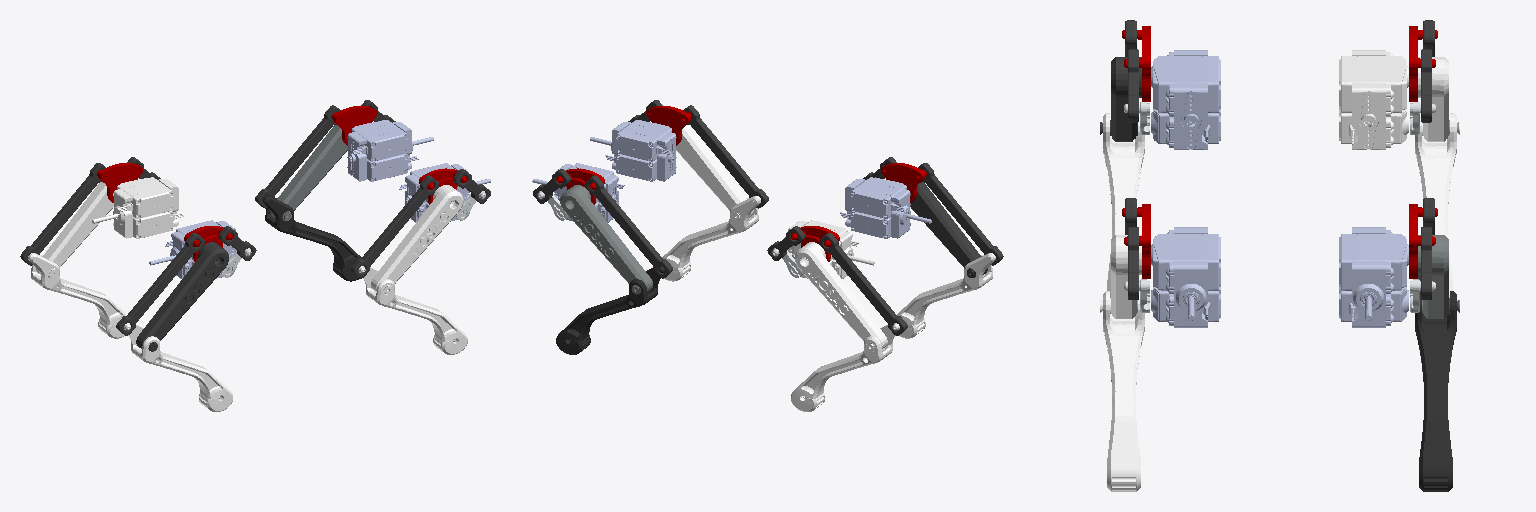
--- Facts derived from the render (not from the file) ---
The picture shows the robot from 3 angles, left to right: view 1: azimuth 30°, elevation 25°; view 2: azimuth 150°, elevation 25°; view 3: azimuth 270°, elevation 25°; orthographic projection.
Model URDF_MOSAC_Real with 37 links and 36 joints (36 continuous), rooted at chasis_base_link, posed every joint at zero.
Visible links, largest first — view 1: BBL_link, BFL_link, BR_servo_femur_link, FR_servo_femur_link, FR_tibia_link, BR_tibia_link, FL_servo_femur_link, BL_tibia_link, FL_tibia_link, BL_servo_femur_link, BR_rotula_grande_tibia_link, FR_rotula_grande_tibia_link (+8 smaller); view 2: BBR_link, BFR_link, BL_servo_femur_link, FL_servo_femur_link, FL_tibia_link, BL_tibia_link, FR_servo_femur_link, FR_tibia_link, BR_tibia_link, BR_servo_femur_link, BL_rotula_grande_tibia_link, FL_rotula_grande_tibia_link (+8 smaller); view 3: BFR_link, BFL_link, BBR_link, BBL_link, FR_tibia_link, FL_tibia_link, BR_tibia_link, BL_tibia_link, BL_servo_femur_link, BR_servo_femur_link, FR_servo_femur_link, FL_servo_femur_link (+8 smaller).
Link boxes in pixels (left/top/right/bottom): BBL_link: left=92, top=177, right=183, bottom=238; BFL_link: left=347, top=120, right=433, bottom=181; BR_servo_femur_link: left=136, top=242, right=228, bottom=351; FR_servo_femur_link: left=371, top=185, right=463, bottom=293; FR_tibia_link: left=358, top=266, right=467, bottom=354; BR_tibia_link: left=124, top=323, right=232, bottom=411; FL_servo_femur_link: left=270, top=125, right=347, bottom=220; BL_tibia_link: left=28, top=253, right=126, bottom=338; FL_tibia_link: left=263, top=196, right=361, bottom=281; BL_servo_femur_link: left=36, top=182, right=113, bottom=277; BR_rotula_grande_tibia_link: left=116, top=233, right=204, bottom=335; FR_rotula_grande_tibia_link: left=351, top=175, right=438, bottom=278; BBR_link: left=840, top=177, right=931, bottom=238; BFR_link: left=590, top=120, right=676, bottom=181; BL_servo_femur_link: left=795, top=242, right=887, bottom=351; FL_servo_femur_link: left=560, top=185, right=652, bottom=293; FL_tibia_link: left=556, top=266, right=665, bottom=354; BL_tibia_link: left=791, top=323, right=899, bottom=411; FR_servo_femur_link: left=676, top=125, right=753, bottom=220; FR_tibia_link: left=662, top=196, right=760, bottom=281; BR_tibia_link: left=897, top=253, right=995, bottom=338; BR_servo_femur_link: left=910, top=182, right=987, bottom=277; BL_rotula_grande_tibia_link: left=819, top=233, right=907, bottom=335; FL_rotula_grande_tibia_link: left=584, top=175, right=672, bottom=278; BFR_link: left=1151, top=227, right=1220, bottom=327; BFL_link: left=1339, top=227, right=1408, bottom=327; BBR_link: left=1151, top=50, right=1220, bottom=149; BBL_link: left=1339, top=50, right=1408, bottom=149; FR_tibia_link: left=1103, top=275, right=1144, bottom=491; FL_tibia_link: left=1415, top=275, right=1456, bottom=491; BR_tibia_link: left=1103, top=98, right=1144, bottom=297; BL_tibia_link: left=1415, top=98, right=1456, bottom=297; BL_servo_femur_link: left=1418, top=57, right=1459, bottom=141; BR_servo_femur_link: left=1100, top=57, right=1141, bottom=141; FR_servo_femur_link: left=1100, top=235, right=1141, bottom=318; FL_servo_femur_link: left=1418, top=235, right=1459, bottom=318.
Size in the robot's own frame: 0.4182 by 0.2141 by 0.181 metres.
Meshes: 37 distinct files referenced, 28 mesh visuals loaded (28 binary STL); not drawn: 1 (reference not matched to a file when rendering), 8 (file found but could not be loaded).

The robot description file, URDF, robot "URDF_MOSAC_Real":
<?xml version="1.0" encoding="utf-8"?>
<!-- This URDF was automatically created by SolidWorks to URDF Exporter! Originally created by Stephen Brawner ([email redacted]) 
     Commit Version: 1.6.0-1-g15f4949  Build Version: 1.6.7594.29634
     For more information, please see http://wiki.ros.org/sw_urdf_exporter -->
<robot
  name="URDF_MOSAC_Real">
  <link
    name="chasis_base_link">
    <inertial>
      <origin
        xyz="0.000290417783026298 0.00089199114591777 -0.00248382841967407"
        rpy="0 0 0" />
      <mass
        value="1.28517738631335" />
      <inertia
        ixx="0.00083611859449757"
        ixy="2.50542972999299E-06"
        ixz="2.47352523120129E-06"
        iyy="0.00168925283943089"
        iyz="-5.86903656615957E-07"
        izz="0.00190795853364502" />
    </inertial>
    <visual>
      <origin
        xyz="0 0 0"
        rpy="0 0 0" />
      <geometry>
        <mesh
          filename="package://URDF_MOSAC_Real/meshes/chasis_base_link.STL" />
      </geometry>
      <material
        name="">
        <color
          rgba="0.298039215686275 0.298039215686275 0.298039215686275 1" />
      </material>
    </visual>
    <collision>
      <origin
        xyz="0 0 0"
        rpy="0 0 0" />
      <geometry>
        <mesh
          filename="package://URDF_MOSAC_Real/meshes/chasis_base_link.STL" />
      </geometry>
    </collision>
  </link>
  <link
    name="BFR_link">
    <inertial>
      <origin
        xyz="0.0054185 -2.2933E-06 -0.030952"
        rpy="0 0 0" />
      <mass
        value="0.14189" />
      <inertia
        ixx="2.2913E-05"
        ixy="-2.9145E-09"
        ixz="-1.1575E-09"
        iyy="2.018E-05"
        iyz="8.907E-10"
        izz="8.4922E-06" />
    </inertial>
    <visual>
      <origin
        xyz="0 0 0"
        rpy="0 0 0" />
      <geometry>
        <mesh
          filename="package://URDF_MOSAC_Real/meshes/BFR_link.STL" />
      </geometry>
      <material
        name="">
        <color
          rgba="0.79216 0.81961 0.93333 1" />
      </material>
    </visual>
    <collision>
      <origin
        xyz="0 0 0"
        rpy="0 0 0" />
      <geometry>
        <mesh
          filename="package://URDF_MOSAC_Real/meshes/BFR_link.STL" />
      </geometry>
    </collision>
  </link>
  <joint
    name="BFR_joint"
    type="continuous">
    <origin
      xyz="0.0950000000000001 -0.0527500000000021 0.0031999999999997"
      rpy="1.5707963267949 0 -1.5707963267949" />
    <parent
      link="chasis_base_link" />
    <child
      link="BFR_link" />
    <axis
      xyz="0 0 -1" />
  </joint>
  <link
    name="FR_servo_femur_link">
    <inertial>
      <origin
        xyz="-0.035696 -0.032879 0.0033975"
        rpy="0 0 0" />
      <mass
        value="0.024784" />
      <inertia
        ixx="9.0612E-06"
        ixy="-8.7198E-06"
        ixz="2.0748E-07"
        iyy="1.0494E-05"
        iyz="1.9069E-07"
        izz="1.8687E-05" />
    </inertial>
    <visual>
      <origin
        xyz="0 0 0"
        rpy="0 0 0" />
      <geometry>
        <mesh
          filename="package://URDF_MOSAC_Real/meshes/FR_servo_femur_link.STL" />
      </geometry>
      <material
        name="">
        <color
          rgba="1 1 1 1" />
      </material>
    </visual>
    <collision>
      <origin
        xyz="0 0 0"
        rpy="0 0 0" />
      <geometry>
        <mesh
          filename="package://URDF_MOSAC_Real/meshes/FR_servo_femur_link.STL" />
      </geometry>
    </collision>
  </link>
  <joint
    name="FR_servo_femur_joint"
    type="continuous">
    <origin
      xyz="0.0351250000000001 0.0102651899999998 -0.02005"
      rpy="0 1.5707963267949 0" />
    <parent
      link="BFR_link" />
    <child
      link="FR_servo_femur_link" />
    <axis
      xyz="0 0 1" />
  </joint>
  <link
    name="FR_tibia_link">
    <inertial>
      <origin
        xyz="0.0405520541126842 -0.0407007292848976 -0.00052886451555538"
        rpy="0 0 0" />
      <mass
        value="0.025039074288833" />
      <inertia
        ixx="1.13634074516021E-05"
        ixy="1.31970172291793E-05"
        ixz="-2.02666470710059E-07"
        iyy="1.80542873440298E-05"
        iyz="2.00304487560453E-07"
        izz="2.86227750231342E-05" />
    </inertial>
    <visual>
      <origin
        xyz="0 0 0"
        rpy="0 0 0" />
      <geometry>
        <mesh
          filename="package://URDF_MOSAC_Real/meshes/FR_tibia_link.STL" />
      </geometry>
      <material
        name="">
        <color
          rgba="1 1 1 1" />
      </material>
    </visual>
    <collision>
      <origin
        xyz="0 0 0"
        rpy="0 0 0" />
      <geometry>
        <mesh
          filename="package://URDF_MOSAC_Real/meshes/FR_tibia_link.STL" />
      </geometry>
    </collision>
  </link>
  <joint
    name="FR_tibia_joint"
    type="continuous">
    <origin
      xyz="-0.0735503585991123 -0.0677520829933811 0.00487499999999921"
      rpy="0 0 0" />
    <parent
      link="FR_servo_femur_link" />
    <child
      link="FR_tibia_link" />
    <axis
      xyz="0 0 -1" />
  </joint>
  <link
    name="FR_rotula_grande_tibia_link">
    <inertial>
      <origin
        xyz="0.0367751792995561 0.0338760414966904 3.33066907387547E-16"
        rpy="0 0 0" />
      <mass
        value="0.00640000115681685" />
      <inertia
        ixx="3.34702745902892E-06"
        ixy="-3.5244652556433E-06"
        ixz="-4.03251811656027E-20"
        iyy="3.9265019304504E-06"
        iyz="-3.73079770125206E-20"
        izz="7.22244070550723E-06" />
    </inertial>
    <visual>
      <origin
        xyz="0 0 0"
        rpy="0 0 0" />
      <geometry>
        <mesh
          filename="package://URDF_MOSAC_Real/meshes/FR_rotula_grande_tibia_link.STL" />
      </geometry>
      <material
        name="">
        <color
          rgba="0.298039215686275 0.298039215686275 0.298039215686275 1" />
      </material>
    </visual>
    <collision>
      <origin
        xyz="0 0 0"
        rpy="0 0 0" />
      <geometry>
        <mesh
          filename="package://URDF_MOSAC_Real/meshes/FR_rotula_grande_tibia_link.STL" />
      </geometry>
    </collision>
  </link>
  <joint
    name="FR_rotula_grande_tibia_joint"
    type="continuous">
    <origin
      xyz="-0.0190918830920367 0.0190918830920367 -0.00424999999999991"
      rpy="0 0 0" />
    <parent
      link="FR_tibia_link" />
    <child
      link="FR_rotula_grande_tibia_link" />
    <axis
      xyz="0 0 -1" />
  </joint>
  <link
    name="FR_rotula_grande_shoulder_link">
    <inertial>
      <origin
        xyz="-0.10058 -0.038121 -0.089037"
        rpy="0 0 0" />
      <mass
        value="2.1356" />
      <inertia
        ixx="0.0085818"
        ixy="-0.00041734"
        ixz="7.1429E-07"
        iyy="0.029934"
        iyz="5.5194E-06"
        izz="0.025652" />
    </inertial>
    <visual>
      <origin
        xyz="0 0 0"
        rpy="0 0 0" />
      <geometry>
        <mesh
          filename="package://URDF_MOSAC_Real/meshes/FR_rotula_grande_shoulder_link.STL" />
      </geometry>
      <material
        name="">
        <color
          rgba="1 1 1 1" />
      </material>
    </visual>
    <collision>
      <origin
        xyz="0 0 0"
        rpy="0 0 0" />
      <geometry>
        <mesh
          filename="package://URDF_MOSAC_Real/meshes/FR_rotula_grande_shoulder_link.STL" />
      </geometry>
    </collision>
  </link>
  <joint
    name="FR_rotula_grande_shoulder_joint"
    type="continuous">
    <origin
      xyz="0.07355 0.067752 0"
      rpy="0 0 0" />
    <parent
      link="FR_rotula_grande_tibia_link" />
    <child
      link="FR_rotula_grande_shoulder_link" />
    <axis
      xyz="0 0 1" />
  </joint>
  <link
    name="FR_servo_tibia_link">
    <inertial>
      <origin
        xyz="0.00849117843679939 0.00877671062953272 0.00540992687440882"
        rpy="0 0 0" />
      <mass
        value="0.00485075807463996" />
      <inertia
        ixx="2.41533578534258E-07"
        ixy="-1.63730545099833E-07"
        ixz="-4.59064141261607E-09"
        iyy="2.24720173099584E-07"
        iyz="-4.71346938960582E-09"
        izz="4.15966063305771E-07" />
    </inertial>
    <visual>
      <origin
        xyz="0 0 0"
        rpy="0 0 0" />
      <geometry>
        <mesh
          filename="package://URDF_MOSAC_Real/meshes/FR_servo_tibia_link.STL" />
      </geometry>
      <material
        name="">
        <color
          rgba="0.898039215686275 0.917647058823529 0.929411764705882 1" />
      </material>
    </visual>
    <collision>
      <origin
        xyz="0 0 0"
        rpy="0 0 0" />
      <geometry>
        <mesh
          filename="package://URDF_MOSAC_Real/meshes/FR_servo_tibia_link.STL" />
      </geometry>
    </collision>
  </link>
  <joint
    name="FR_servo_tibia_joint"
    type="continuous">
    <origin
      xyz="0.0237499999999999 -0.0102651900000003 -0.0400500000000001"
      rpy="0 1.5707963267949 0" />
    <parent
      link="BFR_link" />
    <child
      link="FR_servo_tibia_link" />
    <axis
      xyz="0 0 -1" />
  </joint>
  <link
    name="FR_rotula_chica_servo_link">
    <inertial>
      <origin
        xyz="-0.00986392737646444 0.0101312653065557 0"
        rpy="0 0 0" />
      <mass
        value="0.0030699989722557" />
      <inertia
        ixx="2.88497209092339E-07"
        ixy="2.16972305713532E-07"
        ixz="5.80090486410735E-22"
        iyy="2.76891359862068E-07"
        iyz="-1.0733076161098E-21"
        izz="5.40970921862158E-07" />
    </inertial>
    <visual>
      <origin
        xyz="0 0 0"
        rpy="0 0 0" />
      <geometry>
        <mesh
          filename="package://URDF_MOSAC_Real/meshes/FR_rotula_chica_servo_link.STL" />
      </geometry>
      <material
        name="">
        <color
          rgba="0.298039215686275 0.298039215686275 0.298039215686275 1" />
      </material>
    </visual>
    <collision>
      <origin
        xyz="0 0 0"
        rpy="0 0 0" />
      <geometry>
        <mesh
          filename="package://URDF_MOSAC_Real/meshes/FR_rotula_chica_servo_link.STL" />
      </geometry>
    </collision>
  </link>
  <joint
    name="FR_rotula_chica_servo_joint"
    type="continuous">
    <origin
      xyz="0.0166984175014063 0.0172384121353651 0.0106000000000003"
      rpy="0 0 0" />
    <parent
      link="FR_servo_tibia_link" />
    <child
      link="FR_rotula_chica_servo_link" />
    <axis
      xyz="0 0 1" />
  </joint>
  <link
    name="FR_rotula_chica_shoulder_link">
    <inertial>
      <origin
        xyz="-0.136645055588079 -0.0359996039427988 -0.0876367783213924"
        rpy="0 0 0" />
      <mass
        value="2.1356447427504" />
      <inertia
        ixx="0.00858180106982782"
        ixy="-0.000417340448900779"
        ixz="7.14287658441894E-07"
        iyy="0.0299344558473485"
        iyz="5.51944049327586E-06"
        izz="0.0256522236187835" />
    </inertial>
    <visual>
      <origin
        xyz="0 0 0"
        rpy="0 0 0" />
      <geometry>
        <mesh
          filename="package://URDF_MOSAC_Real/meshes/FR_rotula_chica_shoulder_link.STL" />
      </geometry>
      <material
        name="">
        <color
          rgba="1 1 1 1" />
      </material>
    </visual>
    <collision>
      <origin
        xyz="0 0 0"
        rpy="0 0 0" />
      <geometry>
        <mesh
          filename="package://URDF_MOSAC_Real/meshes/FR_rotula_chica_shoulder_link.STL" />
      </geometry>
    </collision>
  </link>
  <joint
    name="FR_rotula_chica_shoulder_joint"
    type="continuous">
    <origin
      xyz="-0.0197278547529299 0.020262530613112 0"
      rpy="0 0 0" />
    <parent
      link="FR_rotula_chica_servo_link" />
    <child
      link="FR_rotula_chica_shoulder_link" />
    <axis
      xyz="0 0 1" />
  </joint>
  <link
    name="FR_shoulder_link">
    <inertial>
      <origin
        xyz="-0.00105643969596636 0.0125068904118659 -0.00604423410697004"
        rpy="0 0 0" />
      <mass
        value="0.0065854219775301" />
      <inertia
        ixx="5.78050517171653E-07"
        ixy="5.76756091228184E-08"
        ixz="1.84636616987274E-09"
        iyy="5.88796571118712E-07"
        iyz="-9.29194333326297E-09"
        izz="1.08229127546329E-06" />
    </inertial>
    <visual>
      <origin
        xyz="0 0 0"
        rpy="0 0 0" />
      <geometry>
        <mesh
          filename="package://URDF_MOSAC_Real/meshes/FR_shoulder_link.STL" />
      </geometry>
      <material
        name="">
        <color
          rgba="0.752941176470588 0 0 1" />
      </material>
    </visual>
    <collision>
      <origin
        xyz="0 0 0"
        rpy="0 0 0" />
      <geometry>
        <mesh
          filename="package://URDF_MOSAC_Real/meshes/FR_shoulder_link.STL" />
      </geometry>
    </collision>
  </link>
  <joint
    name="FR_shoulder_joint"
    type="continuous">
    <origin
      xyz="0.0351250000000001 0.0102651899999998 -0.02005"
      rpy="0 1.5707963267949 0" />
    <parent
      link="BFR_link" />
    <child
      link="FR_shoulder_link" />
    <axis
      xyz="0 0 1" />
  </joint>
  <link
    name="BBR_link">
    <inertial>
      <origin
        xyz="0.00541850075598596 2.29326240222538E-06 0.0309518443700525"
        rpy="0 0 0" />
      <mass
        value="0.141887811628561" />
      <inertia
        ixx="2.29127825525639E-05"
        ixy="2.91452405646396E-09"
        ixz="1.15750416430942E-09"
        iyy="2.01803636492224E-05"
        iyz="8.90702178377633E-10"
        izz="8.49222645493378E-06" />
    </inertial>
    <visual>
      <origin
        xyz="0 0 0"
        rpy="0 0 0" />
      <geometry>
        <mesh
          filename="package://URDF_MOSAC_Real/meshes/BBR_link.STL" />
      </geometry>
      <material
        name="">
        <color
          rgba="0.792156862745098 0.819607843137255 0.933333333333333 1" />
      </material>
    </visual>
    <collision>
      <origin
        xyz="0 0 0"
        rpy="0 0 0" />
      <geometry>
        <mesh
          filename="package://URDF_MOSAC_Real/meshes/BBR_link.STL" />
      </geometry>
    </collision>
  </link>
  <joint
    name="BBR_joint"
    type="continuous">
    <origin
      xyz="-0.095 -0.05275 0.0032"
      rpy="1.5708 0 -1.5708" />
    <parent
      link="chasis_base_link" />
    <child
      link="BBR_link" />
    <axis
      xyz="0 0 -1" />
  </joint>
  <link
    name="BR_servo_femur_link">
    <inertial>
      <origin
        xyz="-0.0356958803544582 -0.0328794701030622 0.00339753630603652"
        rpy="0 0 0" />
      <mass
        value="0.0247837122843707" />
      <inertia
        ixx="9.06120508828957E-06"
        ixy="-8.71982816615834E-06"
        ixz="2.07483926484094E-07"
        iyy="1.0494255288194E-05"
        iyz="1.90691276655185E-07"
        izz="1.86867780400382E-05" />
    </inertial>
    <visual>
      <origin
        xyz="0 0 0"
        rpy="0 0 0" />
      <geometry>
        <mesh
          filename="package://URDF_MOSAC_Real/meshes/BR_servo_femur_link.STL" />
      </geometry>
      <material
        name="">
        <color
          rgba="0.298039215686275 0.298039215686275 0.298039215686275 1" />
      </material>
    </visual>
    <collision>
      <origin
        xyz="0 0 0"
        rpy="0 0 0" />
      <geometry>
        <mesh
          filename="package://URDF_MOSAC_Real/meshes/BR_servo_femur_link.STL" />
      </geometry>
    </collision>
  </link>
  <joint
    name="BR_servo_femur_joint"
    type="continuous">
    <origin
      xyz="0.0351250000000008 0.0102651899999974 0.040050000000004"
      rpy="0 1.5707963267949 0" />
    <parent
      link="BBR_link" />
    <child
      link="BR_servo_femur_link" />
    <axis
      xyz="0 0 1" />
  </joint>
  <link
    name="BR_tibia_link">
    <inertial>
      <origin
        xyz="0.0405520541126877 -0.0407007292848937 -0.000528864515556449"
        rpy="0 0 0" />
      <mass
        value="0.0250390742888331" />
      <inertia
        ixx="1.13634074516027E-05"
        ixy="1.31970172291793E-05"
        ixz="-2.02666470710004E-07"
        iyy="1.80542873440304E-05"
        iyz="2.00304487560462E-07"
        izz="2.86227750231343E-05" />
    </inertial>
    <visual>
      <origin
        xyz="0 0 0"
        rpy="0 0 0" />
      <geometry>
        <mesh
          filename="package://URDF_MOSAC_Real/meshes/BR_tibia_link.STL" />
      </geometry>
      <material
        name="">
        <color
          rgba="1 1 1 1" />
      </material>
    </visual>
    <collision>
      <origin
        xyz="0 0 0"
        rpy="0 0 0" />
      <geometry>
        <mesh
          filename="package://URDF_MOSAC_Real/meshes/BR_tibia_link.STL" />
      </geometry>
    </collision>
  </link>
  <joint
    name="BR_tibia_joint"
    type="continuous">
    <origin
      xyz="-0.0735503585991109 -0.0677520829933826 0.00487499999999985"
      rpy="0 0 0" />
    <parent
      link="BR_servo_femur_link" />
    <child
      link="BR_tibia_link" />
    <axis
      xyz="0 0 -1" />
  </joint>
  <link
    name="BR_rotula_grande_tibia_link">
    <inertial>
      <origin
        xyz="0.0367751792995605 0.0338760414966955 5.96744875736022E-16"
        rpy="0 0 0" />
      <mass
        value="0.00640000115681684" />
      <inertia
        ixx="3.34702745902892E-06"
        ixy="-3.52446525564329E-06"
        ixz="-8.73366153358431E-21"
        iyy="3.92650193045038E-06"
        iyz="-8.85379142404788E-21"
        izz="7.22244070550721E-06" />
    </inertial>
    <visual>
      <origin
        xyz="0 0 0"
        rpy="0 0 0" />
      <geometry>
        <mesh
          filename="package://URDF_MOSAC_Real/meshes/BR_rotula_grande_tibia_link.STL" />
      </geometry>
      <material
        name="">
        <color
          rgba="0.298039215686275 0.298039215686275 0.298039215686275 1" />
      </material>
    </visual>
    <collision>
      <origin
        xyz="0 0 0"
        rpy="0 0 0" />
      <geometry>
        <mesh
          filename="package://URDF_MOSAC_Real/meshes/BR_rotula_grande_tibia_link.STL" />
      </geometry>
    </collision>
  </link>
  <joint
    name="BR_rotula_grande_tibia_joint"
    type="continuous">
    <origin
      xyz="-0.0190918830920373 0.0190918830920362 -0.00425000000000043"
      rpy="0 0 0" />
    <parent
      link="BR_tibia_link" />
    <child
      link="BR_rotula_grande_tibia_link" />
    <axis
      xyz="0 0 1" />
  </joint>
  <link
    name="BR_rotula_grande_shoulder_link">
    <inertial>
      <origin
        xyz="0.149517390252438 -0.0381209242863553 -0.0890367783213924"
        rpy="0 0 0" />
      <mass
        value="2.1356447427504" />
      <inertia
        ixx="0.00858180106982782"
        ixy="-0.000417340448900783"
        ixz="7.14287658572596E-07"
        iyy="0.0299344558473485"
        iyz="5.51944049327679E-06"
        izz="0.0256522236187835" />
    </inertial>
    <visual>
      <origin
        xyz="0 0 0"
        rpy="0 0 0" />
      <geometry>
        <mesh
          filename="package://URDF_MOSAC_Real/meshes/BR_rotula_grande_shoulder_link.STL" />
      </geometry>
      <material
        name="">
        <color
          rgba="1 1 1 1" />
      </material>
    </visual>
    <collision>
      <origin
        xyz="0 0 0"
        rpy="0 0 0" />
      <geometry>
        <mesh
          filename="package://URDF_MOSAC_Real/meshes/BR_rotula_grande_shoulder_link.STL" />
      </geometry>
    </collision>
  </link>
  <joint
    name="BR_rotula_grande_shoulder_joint"
    type="continuous">
    <origin
      xyz="0.0735503585991108 0.0677520829933826 0"
      rpy="0 0 0" />
    <parent
      link="BR_rotula_grande_tibia_link" />
    <child
      link="BR_rotula_grande_shoulder_link" />
    <axis
      xyz="0 0 1" />
  </joint>
  <link
    name="BR_servo_tibia_link">
    <inertial>
      <origin
        xyz="0.00849117843680008 0.00877671062953306 0.00540992687440915"
        rpy="0 0 0" />
      <mass
        value="0.00485075807463997" />
      <inertia
        ixx="2.4153357853426E-07"
        ixy="-1.63730545099834E-07"
        ixz="-4.59064141261475E-09"
        iyy="2.24720173099583E-07"
        iyz="-4.71346938960453E-09"
        izz="4.15966063305773E-07" />
    </inertial>
    <visual>
      <origin
        xyz="0 0 0"
        rpy="0 0 0" />
      <geometry>
        <mesh
          filename="package://URDF_MOSAC_Real/meshes/BR_servo_tibia_link.STL" />
      </geometry>
      <material
        name="">
        <color
          rgba="0.898039215686275 0.917647058823529 0.929411764705882 1" />
      </material>
    </visual>
    <collision>
      <origin
        xyz="0 0 0"
        rpy="0 0 0" />
      <geometry>
        <mesh
          filename="package://URDF_MOSAC_Real/meshes/BR_servo_tibia_link.STL" />
      </geometry>
    </collision>
  </link>
  <joint
    name="BR_servo_tibia_joint"
    type="continuous">
    <origin
      xyz="0.0237499999999999 -0.0102651899999999 0.0200499999999995"
      rpy="0 1.5707963267949 0" />
    <parent
      link="BBR_link" />
    <child
      link="BR_servo_tibia_link" />
    <axis
      xyz="0 0 1" />
  </joint>
  <link
    name="BR_rotula_chica_servo_link">
    <inertial>
      <origin
        xyz="-0.00986392737646431 0.0101312653065562 6.93889390390723E-17"
        rpy="0 0 0" />
      <mass
        value="0.0030699989722557" />
      <inertia
        ixx="2.88497209092338E-07"
        ixy="2.16972305713532E-07"
        ixz="2.22037888589678E-21"
        iyy="2.7689135986207E-07"
        iyz="-2.37549080909706E-21"
        izz="5.40970921862158E-07" />
    </inertial>
    <visual>
      <origin
        xyz="0 0 0"
        rpy="0 0 0" />
      <geometry>
        <mesh
          filename="package://URDF_MOSAC_Real/meshes/BR_rotula_chica_servo_link.STL" />
      </geometry>
      <material
        name="">
        <color
          rgba="0.298039215686275 0.298039215686275 0.298039215686275 1" />
      </material>
    </visual>
    <collision>
      <origin
        xyz="0 0 0"
        rpy="0 0 0" />
      <geometry>
        <mesh
          filename="package://URDF_MOSAC_Real/meshes/BR_rotula_chica_servo_link.STL" />
      </geometry>
    </collision>
  </link>
  <joint
    name="BR_rotula_chica_servo_joint"
    type="continuous">
    <origin
      xyz="0.0166984175014064 0.0172384121353648 0.0106000000000001"
      rpy="0 0 0" />
    <parent
      link="BR_servo_tibia_link" />
    <child
      link="BR_rotula_chica_servo_link" />
    <axis
      xyz="0 0 1" />
  </joint>
  <link
    name="BR_rotula_chica_shoulder_link">
    <inertial>
      <origin
        xyz="0.11345494441192 -0.0359996039427985 -0.0876367783213922"
        rpy="0 0 0" />
      <mass
        value="2.1356447427504" />
      <inertia
        ixx="0.00858180106982782"
        ixy="-0.000417340448900781"
        ixz="7.14287658573455E-07"
        iyy="0.0299344558473485"
        iyz="5.51944049327663E-06"
        izz="0.0256522236187835" />
    </inertial>
    <visual>
      <origin
        xyz="0 0 0"
        rpy="0 0 0" />
      <geometry>
        <mesh
          filename="package://URDF_MOSAC_Real/meshes/BR_rotula_chica_shoulder_link.STL" />
      </geometry>
      <material
        name="">
        <color
          rgba="1 1 1 1" />
      </material>
    </visual>
    <collision>
      <origin
        xyz="0 0 0"
        rpy="0 0 0" />
      <geometry>
        <mesh
          filename="package://URDF_MOSAC_Real/meshes/BR_rotula_chica_shoulder_link.STL" />
      </geometry>
    </collision>
  </link>
  <joint
    name="BR_rotula_chica_shoulder_joint"
    type="continuous">
    <origin
      xyz="-0.0197278547529299 0.020262530613112 0"
      rpy="0 0 0" />
    <parent
      link="BR_rotula_chica_servo_link" />
    <child
      link="BR_rotula_chica_shoulder_link" />
    <axis
      xyz="0 0 1" />
  </joint>
  <link
    name="BR_shoulder_link">
    <inertial>
      <origin
        xyz="-0.00105643969596159 0.0125068904118689 -0.00604423410697069"
        rpy="0 0 0" />
      <mass
        value="0.00658542197753009" />
      <inertia
        ixx="5.78050517171652E-07"
        ixy="5.76756091228186E-08"
        ixz="1.84636616987703E-09"
        iyy="5.88796571118713E-07"
        iyz="-9.29194333326346E-09"
        izz="1.08229127546329E-06" />
    </inertial>
    <visual>
      <origin
        xyz="0 0 0"
        rpy="0 0 0" />
      <geometry>
        <mesh
          filename="package://URDF_MOSAC_Real/meshes/BR_shoulder_link.STL" />
      </geometry>
      <material
        name="">
        <color
          rgba="0.752941176470588 0 0 1" />
      </material>
    </visual>
    <collision>
      <origin
        xyz="0 0 0"
        rpy="0 0 0" />
      <geometry>
        <mesh
          filename="package://URDF_MOSAC_Real/meshes/BR_shoulder_link.STL" />
      </geometry>
    </collision>
  </link>
  <joint
    name="BR_shoulder_joint"
    type="continuous">
    <origin
      xyz="0.0351250000000008 0.0102651899999974 0.040050000000004"
      rpy="0 1.5707963267949 0" />
    <parent
      link="BBR_link" />
    <child
      link="BR_shoulder_link" />
    <axis
      xyz="0 0 1" />
  </joint>
  <link
    name="BFL_link">
    <inertial>
      <origin
        xyz="0.00541850066107416 -2.29326236156346E-06 0.0309518439669959"
        rpy="0 0 0" />
      <mass
        value="0.141887814113881" />
      <inertia
        ixx="2.29127860370237E-05"
        ixy="-2.91399244590882E-09"
        ixz="1.1575051996695E-09"
        iyy="2.0180363219036E-05"
        iyz="-3.99898195318268E-10"
        izz="8.49222961061626E-06" />
    </inertial>
    <visual>
      <origin
        xyz="0 0 0"
        rpy="0 0 0" />
      <geometry>
        <mesh
          filename="package://URDF_MOSAC_Real/meshes/BFL_link.STL" />
      </geometry>
      <material
        name="">
        <color
          rgba="0.792156862745098 0.819607843137255 0.933333333333333 1" />
      </material>
    </visual>
    <collision>
      <origin
        xyz="0 0 0"
        rpy="0 0 0" />
      <geometry>
        <mesh
          filename="package://URDF_MOSAC_Real/meshes/BFL_link.STL" />
      </geometry>
    </collision>
  </link>
  <joint
    name="BFL_joint"
    type="continuous">
    <origin
      xyz="0.095 0.05275 0.0032"
      rpy="1.5708 0 1.5708" />
    <parent
      link="chasis_base_link" />
    <child
      link="BFL_link" />
    <axis
      xyz="0 0 1" />
  </joint>
  <link
    name="FL_servo_femur_link">
    <inertial>
      <origin
        xyz="0.0357176608508485 -0.0328995492530885 0.00339754715412675"
        rpy="0 0 0" />
      <mass
        value="0.0247837500610103" />
      <inertia
        ixx="9.05671357602719E-06"
        ixy="8.71499796679949E-06"
        ixz="-2.11523839289626E-07"
        iyy="1.04890668717371E-05"
        iyz="1.94414740370758E-07"
        izz="1.86770950089772E-05" />
    </inertial>
    <visual>
      <origin
        xyz="0 0 0"
        rpy="0 0 0" />
      <geometry>
        <mesh
          filename="package://URDF_MOSAC_Real/meshes/FL_servo_femur_link.STL" />
      </geometry>
      <material
        name="">
        <color
          rgba="0.529411764705882 0.549019607843137 0.549019607843137 1" />
      </material>
    </visual>
    <collision>
      <origin
        xyz="0 0 0"
        rpy="0 0 0" />
      <geometry>
        <mesh
          filename="package://URDF_MOSAC_Real/meshes/FL_servo_femur_link.STL" />
      </geometry>
    </collision>
  </link>
  <joint
    name="FL_servo_femur_joint"
    type="continuous">
    <origin
      xyz="0.0351249999999961 0.0102651900000007 0.0200499999999999"
      rpy="0 1.5707963267949 0" />
    <parent
      link="BFL_link" />
    <child
      link="FL_servo_femur_link" />
    <axis
      xyz="0 0 -1" />
  </joint>
  <link
    name="FL_tibia_link">
    <inertial>
      <origin
        xyz="-0.0405520499951706 -0.0407007678930927 -0.000528930243780895"
        rpy="0 0 0" />
      <mass
        value="0.0250390690565358" />
      <inertia
        ixx="1.13634377420611E-05"
        ixy="-1.31970361172338E-05"
        ixz="2.02631681826793E-07"
        iyy="1.80542525209951E-05"
        iyz="2.00375112861309E-07"
        izz="2.86227705318799E-05" />
    </inertial>
    <visual>
      <origin
        xyz="0 0 0"
        rpy="0 0 0" />
      <geometry>
        <mesh
          filename="package://URDF_MOSAC_Real/meshes/FL_tibia_link.STL" />
      </geometry>
      <material
        name="">
        <color
          rgba="0.243137254901961 0.243137254901961 0.243137254901961 1" />
      </material>
    </visual>
    <collision>
      <origin
        xyz="0 0 0"
        rpy="0 0 0" />
      <geometry>
        <mesh
          filename="package://URDF_MOSAC_Real/meshes/FL_tibia_link.STL" />
      </geometry>
    </collision>
  </link>
  <joint
    name="FL_tibia_joint"
    type="continuous">
    <origin
      xyz="0.0735503585991107 -0.0677520829933828 0.00487499999999974"
      rpy="0 0 0" />
    <parent
      link="FL_servo_femur_link" />
    <child
      link="FL_tibia_link" />
    <axis
      xyz="0 0 1" />
  </joint>
  <link
    name="FL_rotula_grande_tibia_link">
    <inertial>
      <origin
        xyz="-0.0367751792995554 0.0338760414966914 5.55111512312578E-17"
        rpy="0 0 0" />
      <mass
        value="0.00640000115681684" />
      <inertia
        ixx="3.34702745902909E-06"
        ixy="3.52446525564331E-06"
        ixz="4.52019769169951E-21"
        iyy="3.92650193045022E-06"
        iyz="-4.1054161993852E-21"
        izz="7.22244070550722E-06" />
    </inertial>
    <visual>
      <origin
        xyz="0 0 0"
        rpy="0 0 0" />
      <geometry>
        <mesh
          filename="package://URDF_MOSAC_Real/meshes/FL_rotula_grande_tibia_link.STL" />
      </geometry>
      <material
        name="">
        <color
          rgba="0.298039215686275 0.298039215686275 0.298039215686275 1" />
      </material>
    </visual>
    <collision>
      <origin
        xyz="0 0 0"
        rpy="0 0 0" />
      <geometry>
        <mesh
          filename="package://URDF_MOSAC_Real/meshes/FL_rotula_grande_tibia_link.STL" />
      </geometry>
    </collision>
  </link>
  <joint
    name="FL_rotula_grande_tibia_joint"
    type="continuous">
    <origin
      xyz="0.0190918830920366 0.019091883092037 -0.00425000000000121"
      rpy="0 0 0" />
    <parent
      link="FL_tibia_link" />
    <child
      link="FL_rotula_grande_tibia_link" />
    <axis
      xyz="0 0 1" />
  </joint>
  <link
    name="FL_rotula_grande_shoulder_link">
    <inertial>
      <origin
        xyz="0.100582609747567 -0.03812092428636 -0.0879632216786049"
        rpy="0 0 0" />
      <mass
        value="2.1356447427504" />
      <inertia
        ixx="0.00858180106982782"
        ixy="0.000417340448900772"
        ixz="7.14287658450418E-07"
        iyy="0.0299344558473485"
        iyz="-5.51944049327045E-06"
        izz="0.0256522236187835" />
    </inertial>
    <visual>
      <origin
        xyz="0 0 0"
        rpy="0 0 0" />
      <geometry>
        <mesh
          filename="package://URDF_MOSAC_Real/meshes/FL_rotula_grande_shoulder_link.STL" />
      </geometry>
      <material
        name="">
        <color
          rgba="1 1 1 1" />
      </material>
    </visual>
    <collision>
      <origin
        xyz="0 0 0"
        rpy="0 0 0" />
      <geometry>
        <mesh
          filename="package://URDF_MOSAC_Real/meshes/FL_rotula_grande_shoulder_link.STL" />
      </geometry>
    </collision>
  </link>
  <joint
    name="FL_rotula_grande_shoulder_joint"
    type="continuous">
    <origin
      xyz="-0.0735503585991107 0.0677520829933827 0"
      rpy="0 0 0" />
    <parent
      link="FL_rotula_grande_tibia_link" />
    <child
      link="FL_rotula_grande_shoulder_link" />
    <axis
      xyz="0 0 -1" />
  </joint>
  <link
    name="FL_servo_tibia_link">
    <inertial>
      <origin
        xyz="-0.00850211859503069 0.00876611546604519 0.00540992767101264"
        rpy="0 0 0" />
      <mass
        value="0.00485075622544203" />
      <inertia
        ixx="2.35150220754916E-07"
        ixy="1.6393375491565E-07"
        ixz="4.56502506272084E-09"
        iyy="2.3110351434428E-07"
        iyz="-4.73827330456777E-09"
        izz="4.15966046962212E-07" />
    </inertial>
    <visual>
      <origin
        xyz="0 0 0"
        rpy="0 0 0" />
      <geometry>
        <mesh
          filename="package://URDF_MOSAC_Real/meshes/FL_servo_tibia_link.STL" />
      </geometry>
      <material
        name="">
        <color
          rgba="0.898039215686275 0.917647058823529 0.929411764705882 1" />
      </material>
    </visual>
    <collision>
      <origin
        xyz="0 0 0"
        rpy="0 0 0" />
      <geometry>
        <mesh
          filename="package://URDF_MOSAC_Real/meshes/FL_servo_tibia_link.STL" />
      </geometry>
    </collision>
  </link>
  <joint
    name="FL_servo_tibia_joint"
    type="continuous">
    <origin
      xyz="0.023749999999999 -0.0102651899999995 0.04005"
      rpy="0 1.5707963267949 0" />
    <parent
      link="BFL_link" />
    <child
      link="FL_servo_tibia_link" />
    <axis
      xyz="0 0 1" />
  </joint>
  <link
    name="FL_rotula_chica_servo_link">
    <inertial>
      <origin
        xyz="0.00986392737646258 0.010131265306561 -1.38777878078145E-17"
        rpy="0 0 0" />
      <mass
        value="0.0030699989722557" />
      <inertia
        ixx="2.88497209092356E-07"
        ixy="-2.16972305713532E-07"
        ixz="2.04149940290167E-22"
        iyy="2.76891359862053E-07"
        iyz="2.17283106300372E-22"
        izz="5.40970921862159E-07" />
    </inertial>
    <visual>
      <origin
        xyz="0 0 0"
        rpy="0 0 0" />
      <geometry>
        <mesh
          filename="package://URDF_MOSAC_Real/meshes/FL_rotula_chica_servo_link.STL" />
      </geometry>
      <material
        name="">
        <color
          rgba="0.298039215686275 0.298039215686275 0.298039215686275 1" />
      </material>
    </visual>
    <collision>
      <origin
        xyz="0 0 0"
        rpy="0 0 0" />
      <geometry>
        <mesh
          filename="package://URDF_MOSAC_Real/meshes/FL_rotula_chica_servo_link.STL" />
      </geometry>
    </collision>
  </link>
  <joint
    name="FL_rotula_chica_servo_joint"
    type="continuous">
    <origin
      xyz="-0.0166984175014062 0.017238412135364 0.0105999999999971"
      rpy="0 0 0" />
    <parent
      link="FL_servo_tibia_link" />
    <child
      link="FL_rotula_chica_servo_link" />
    <axis
      xyz="0 0 -1" />
  </joint>
  <link
    name="FL_rotula_chica_shoulder_link">
    <inertial>
      <origin
        xyz="0.13664505558808 -0.0359996039427994 -0.0865632216786061"
        rpy="0 0 0" />
      <mass
        value="2.1356447427504" />
      <inertia
        ixx="0.00858180106982782"
        ixy="0.000417340448900772"
        ixz="7.14287658440027E-07"
        iyy="0.0299344558473485"
        iyz="-5.51944049327266E-06"
        izz="0.0256522236187835" />
    </inertial>
    <visual>
      <origin
        xyz="0 0 0"
        rpy="0 0 0" />
      <geometry>
        <mesh
          filename="package://URDF_MOSAC_Real/meshes/FL_rotula_chica_shoulder_link.STL" />
      </geometry>
      <material
        name="">
        <color
          rgba="1 1 1 1" />
      </material>
    </visual>
    <collision>
      <origin
        xyz="0 0 0"
        rpy="0 0 0" />
      <geometry>
        <mesh
          filename="package://URDF_MOSAC_Real/meshes/FL_rotula_chica_shoulder_link.STL" />
      </geometry>
    </collision>
  </link>
  <joint
    name="FL_rotula_chica_shoulder_joint"
    type="continuous">
    <origin
      xyz="0.0197278547529292 0.0202625306131127 0"
      rpy="0 0 0" />
    <parent
      link="FL_rotula_chica_servo_link" />
    <child
      link="FL_rotula_chica_shoulder_link" />
    <axis
      xyz="0 0 -1" />
  </joint>
  <link
    name="FL_shoulder_link">
    <inertial>
      <origin
        xyz="0.00105643969596547 0.0125068904118674 -0.00604423410697044"
        rpy="0 0 0" />
      <mass
        value="0.0065854219775301" />
      <inertia
        ixx="5.78050517171652E-07"
        ixy="-5.76756091228182E-08"
        ixz="-1.84636616987089E-09"
        iyy="5.88796571118712E-07"
        iyz="-9.29194333325772E-09"
        izz="1.08229127546329E-06" />
    </inertial>
    <visual>
      <origin
        xyz="0 0 0"
        rpy="0 0 0" />
      <geometry>
        <mesh
          filename="package://URDF_MOSAC_Real/meshes/FL_shoulder_link.STL" />
      </geometry>
      <material
        name="">
        <color
          rgba="0.752941176470588 0 0 1" />
      </material>
    </visual>
    <collision>
      <origin
        xyz="0 0 0"
        rpy="0 0 0" />
      <geometry>
        <mesh
          filename="package://URDF_MOSAC_Real/meshes/FL_shoulder_link.STL" />
      </geometry>
    </collision>
  </link>
  <joint
    name="FL_shoulder_joint"
    type="continuous">
    <origin
      xyz="0.0351249999999961 0.0102651900000007 0.0200499999999999"
      rpy="0 1.5707963267949 0" />
    <parent
      link="BFL_link" />
    <child
      link="FL_shoulder_link" />
    <axis
      xyz="0 0 -1" />
  </joint>
  <link
    name="BBL_link">
    <inertial>
      <origin
        xyz="0 0 0"
        rpy="0 0 0" />
      <mass
        value="0" />
      <inertia
        ixx="0"
        ixy="0"
        ixz="0"
        iyy="0"
        iyz="0"
        izz="0" />
    </inertial>
    <visual>
      <origin
        xyz="0 0 0"
        rpy="0 0 0" />
      <geometry>
        <mesh
          filename="package://URDF_MOSAC_Real/meshes/BBL_link.STL" />
      </geometry>
      <material
        name="">
        <color
          rgba="1 1 1 1" />
      </material>
    </visual>
    <collision>
      <origin
        xyz="0 0 0"
        rpy="0 0 0" />
      <geometry>
        <mesh
          filename="package://URDF_MOSAC_Real/meshes/BBL_link.STL" />
      </geometry>
    </collision>
  </link>
  <joint
    name="BBL_joint"
    type="continuous">
    <origin
      xyz="-0.0949999999999865 0.0527499999999996 0.00320000000000006"
      rpy="1.5707963267949 0 1.57079632679489" />
    <parent
      link="chasis_base_link" />
    <child
      link="BBL_link" />
    <axis
      xyz="0 0 1" />
  </joint>
  <link
    name="BL_servo_femur_link">
    <inertial>
      <origin
        xyz="0.0357176608508522 -0.0328995492530881 0.00339754715412775"
        rpy="0 0 0" />
      <mass
        value="0.0247837500610104" />
      <inertia
        ixx="9.05671357602596E-06"
        ixy="8.7149979667994E-06"
        ixz="-2.11523839289677E-07"
        iyy="1.04890668717384E-05"
        iyz="1.94414740370773E-07"
        izz="1.86770950089772E-05" />
    </inertial>
    <visual>
      <origin
        xyz="0 0 0"
        rpy="0 0 0" />
      <geometry>
        <mesh
          filename="package://URDF_MOSAC_Real/meshes/BL_servo_femur_link.STL" />
      </geometry>
      <material
        name="">
        <color
          rgba="1 1 1 1" />
      </material>
    </visual>
    <collision>
      <origin
        xyz="0 0 0"
        rpy="0 0 0" />
      <geometry>
        <mesh
          filename="package://URDF_MOSAC_Real/meshes/BL_servo_femur_link.STL" />
      </geometry>
    </collision>
  </link>
  <joint
    name="BL_servo_femur_joint"
    type="continuous">
    <origin
      xyz="0.0351250000000023 0.0102651900000047 -0.0400499999999984"
      rpy="0 1.5707963267949 0" />
    <parent
      link="BBL_link" />
    <child
      link="BL_servo_femur_link" />
    <axis
      xyz="0 0 -1" />
  </joint>
  <link
    name="BL_tibia_link">
    <inertial>
      <origin
        xyz="-0.0405520499951745 -0.0407007678930919 -0.000528930243778078"
        rpy="0 0 0" />
      <mass
        value="0.0250390690565358" />
      <inertia
        ixx="1.13634377420608E-05"
        ixy="-1.31970361172338E-05"
        ixz="2.02631681826998E-07"
        iyy="1.80542525209949E-05"
        iyz="2.00375112861512E-07"
        izz="2.862277053188E-05" />
    </inertial>
    <visual>
      <origin
        xyz="0 0 0"
        rpy="0 0 0" />
      <geometry>
        <mesh
          filename="package://URDF_MOSAC_Real/meshes/BL_tibia_link.STL" />
      </geometry>
      <material
        name="">
        <color
          rgba="1 1 1 1" />
      </material>
    </visual>
    <collision>
      <origin
        xyz="0 0 0"
        rpy="0 0 0" />
      <geometry>
        <mesh
          filename="package://URDF_MOSAC_Real/meshes/BL_tibia_link.STL" />
      </geometry>
    </collision>
  </link>
  <joint
    name="BL_tibia_joint"
    type="continuous">
    <origin
      xyz="0.0735503585991147 -0.0677520829933784 0.004875"
      rpy="0 0 0" />
    <parent
      link="BL_servo_femur_link" />
    <child
      link="BL_tibia_link" />
    <axis
      xyz="0 0 1" />
  </joint>
  <link
    name="BL_rotula_grande_tibia_link">
    <inertial>
      <origin
        xyz="-0.0367751792995572 0.0338760414966902 6.93889390390723E-16"
        rpy="0 0 0" />
      <mass
        value="0.00640000115681685" />
      <inertia
        ixx="3.3470274590286E-06"
        ixy="3.52446525564327E-06"
        ixz="-8.31058247823551E-22"
        iyy="3.92650193045071E-06"
        iyz="8.20356724481622E-22"
        izz="7.22244070550722E-06" />
    </inertial>
    <visual>
      <origin
        xyz="0 0 0"
        rpy="0 0 0" />
      <geometry>
        <mesh
          filename="package://URDF_MOSAC_Real/meshes/BL_rotula_grande_tibia_link.STL" />
      </geometry>
      <material
        name="">
        <color
          rgba="0.298039215686275 0.298039215686275 0.298039215686275 1" />
      </material>
    </visual>
    <collision>
      <origin
        xyz="0 0 0"
        rpy="0 0 0" />
      <geometry>
        <mesh
          filename="package://URDF_MOSAC_Real/meshes/BL_rotula_grande_tibia_link.STL" />
      </geometry>
    </collision>
  </link>
  <joint
    name="BL_rotula_grande_tibia_joint"
    type="continuous">
    <origin
      xyz="0.0190918830920371 0.0190918830920353 -0.00425000000000002"
      rpy="0 0 0" />
    <parent
      link="BL_tibia_link" />
    <child
      link="BL_rotula_grande_tibia_link" />
    <axis
      xyz="0 0 -1" />
  </joint>
  <link
    name="BL_rotula_grande_shoulder_link">
    <inertial>
      <origin
        xyz="-0.14951739025242 -0.0381209242863624 -0.0879632216786112"
        rpy="0 0 0" />
      <mass
        value="2.1356447427504" />
      <inertia
        ixx="0.00858180106982782"
        ixy="0.000417340448900772"
        ixz="7.14287658570656E-07"
        iyy="0.0299344558473485"
        iyz="-5.51944049327011E-06"
        izz="0.0256522236187835" />
    </inertial>
    <visual>
      <origin
        xyz="0 0 0"
        rpy="0 0 0" />
      <geometry>
        <mesh
          filename="package://URDF_MOSAC_Real/meshes/BL_rotula_grande_shoulder_link.STL" />
      </geometry>
      <material
        name="">
        <color
          rgba="1 1 1 1" />
      </material>
    </visual>
    <collision>
      <origin
        xyz="0 0 0"
        rpy="0 0 0" />
      <geometry>
        <mesh
          filename="package://URDF_MOSAC_Real/meshes/BL_rotula_grande_shoulder_link.STL" />
      </geometry>
    </collision>
  </link>
  <joint
    name="BL_rotula_grande_shoulder_joint"
    type="continuous">
    <origin
      xyz="-0.0735503585991146 0.0677520829933785 0"
      rpy="0 0 0" />
    <parent
      link="BL_rotula_grande_tibia_link" />
    <child
      link="BL_rotula_grande_shoulder_link" />
    <axis
      xyz="0 0 -1" />
  </joint>
  <link
    name="BL_servo_tibia_link">
    <inertial>
      <origin
        xyz="-0.00850211859503011 0.00876611546604247 0.00540992767101264"
        rpy="0 0 0" />
      <mass
        value="0.00485075622544201" />
      <inertia
        ixx="2.35150220754897E-07"
        ixy="1.6393375491565E-07"
        ixz="4.56502506272094E-09"
        iyy="2.31103514344298E-07"
        iyz="-4.73827330456716E-09"
        izz="4.15966046962211E-07" />
    </inertial>
    <visual>
      <origin
        xyz="0 0 0"
        rpy="0 0 0" />
      <geometry>
        <mesh
          filename="package://URDF_MOSAC_Real/meshes/BL_servo_tibia_link.STL" />
      </geometry>
      <material
        name="">
        <color
          rgba="0.898039215686275 0.917647058823529 0.929411764705882 1" />
      </material>
    </visual>
    <collision>
      <origin
        xyz="0 0 0"
        rpy="0 0 0" />
      <geometry>
        <mesh
          filename="package://URDF_MOSAC_Real/meshes/BL_servo_tibia_link.STL" />
      </geometry>
    </collision>
  </link>
  <joint
    name="BL_servo_tibia_joint"
    type="continuous">
    <origin
      xyz="0.0237500000000007 -0.0102651899999983 -0.0200500000000005"
      rpy="0 1.5707963267949 0" />
    <parent
      link="BBL_link" />
    <child
      link="BL_servo_tibia_link" />
    <axis
      xyz="0 0 -1" />
  </joint>
  <link
    name="BL_rotula_chica_servo_link">
    <inertial>
      <origin
        xyz="0.0098639273764591 0.0101312653065698 2.08166817117217E-16"
        rpy="0 0 0" />
      <mass
        value="0.00306999897225571" />
      <inertia
        ixx="2.88497209092384E-07"
        ixy="-2.16972305713531E-07"
        ixz="3.79476625972021E-23"
        iyy="2.76891359862025E-07"
        iyz="4.86219942307966E-23"
        izz="5.40970921862159E-07" />
    </inertial>
    <visual>
      <origin
        xyz="0 0 0"
        rpy="0 0 0" />
      <geometry>
        <mesh
          filename="package://URDF_MOSAC_Real/meshes/BL_rotula_chica_servo_link.STL" />
      </geometry>
      <material
        name="">
        <color
          rgba="0.298039215686275 0.298039215686275 0.298039215686275 1" />
      </material>
    </visual>
    <collision>
      <origin
        xyz="0 0 0"
        rpy="0 0 0" />
      <geometry>
        <mesh
          filename="package://URDF_MOSAC_Real/meshes/BL_rotula_chica_servo_link.STL" />
      </geometry>
    </collision>
  </link>
  <joint
    name="BL_rotula_chica_servo_joint"
    type="continuous">
    <origin
      xyz="-0.0166984175014017 0.0172384121353497 0.0106000000000016"
      rpy="0 0 0" />
    <parent
      link="BL_servo_tibia_link" />
    <child
      link="BL_rotula_chica_servo_link" />
    <axis
      xyz="0 0 -1" />
  </joint>
  <link
    name="BL_rotula_chica_shoulder_link">
    <inertial>
      <origin
        xyz="-0.113454944411912 -0.0359996039427868 -0.0865632216786112"
        rpy="0 0 0" />
      <mass
        value="2.1356447427504" />
      <inertia
        ixx="0.00858180106982782"
        ixy="0.000417340448900781"
        ixz="7.14287658575152E-07"
        iyy="0.0299344558473485"
        iyz="-5.51944049327581E-06"
        izz="0.0256522236187835" />
    </inertial>
    <visual>
      <origin
        xyz="0 0 0"
        rpy="0 0 0" />
      <geometry>
        <mesh
          filename="package://URDF_MOSAC_Real/meshes/BL_rotula_chica_shoulder_link.STL" />
      </geometry>
      <material
        name="">
        <color
          rgba="1 1 1 1" />
      </material>
    </visual>
    <collision>
      <origin
        xyz="0 0 0"
        rpy="0 0 0" />
      <geometry>
        <mesh
          filename="package://URDF_MOSAC_Real/meshes/BL_rotula_chica_shoulder_link.STL" />
      </geometry>
    </collision>
  </link>
  <joint
    name="BL_rotula_chica_shoulder_joint"
    type="continuous">
    <origin
      xyz="0.0197278547529287 0.0202625306131132 0"
      rpy="0 0 0" />
    <parent
      link="BL_rotula_chica_servo_link" />
    <child
      link="BL_rotula_chica_shoulder_link" />
    <axis
      xyz="0 0 -1" />
  </joint>
  <link
    name="BL_shoulder_link">
    <inertial>
      <origin
        xyz="0.0010564396959668 0.0125068904118647 -0.00604423410696976"
        rpy="0 0 0" />
      <mass
        value="0.0065854219775301" />
      <inertia
        ixx="5.78050517171661E-07"
        ixy="-5.76756091228195E-08"
        ixz="-1.84636616987072E-09"
        iyy="5.88796571118705E-07"
        iyz="-9.29194333325733E-09"
        izz="1.08229127546329E-06" />
    </inertial>
    <visual>
      <origin
        xyz="0 0 0"
        rpy="0 0 0" />
      <geometry>
        <mesh
          filename="package://URDF_MOSAC_Real/meshes/BL_shoulder_link.STL" />
      </geometry>
      <material
        name="">
        <color
          rgba="0.752941176470588 0 0 1" />
      </material>
    </visual>
    <collision>
      <origin
        xyz="0 0 0"
        rpy="0 0 0" />
      <geometry>
        <mesh
          filename="package://URDF_MOSAC_Real/meshes/BL_shoulder_link.STL" />
      </geometry>
    </collision>
  </link>
  <joint
    name="BL_shoulder_joint"
    type="continuous">
    <origin
      xyz="0.0351250000000023 0.0102651900000047 -0.0400499999999984"
      rpy="0 1.5707963267949 0" />
    <parent
      link="BBL_link" />
    <child
      link="BL_shoulder_link" />
    <axis
      xyz="0 0 -1" />
  </joint>
</robot>
